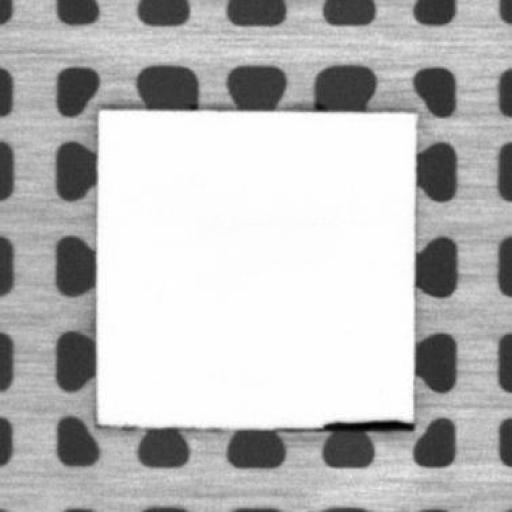DIE_BROKEN: (320, 416, 414, 432)
